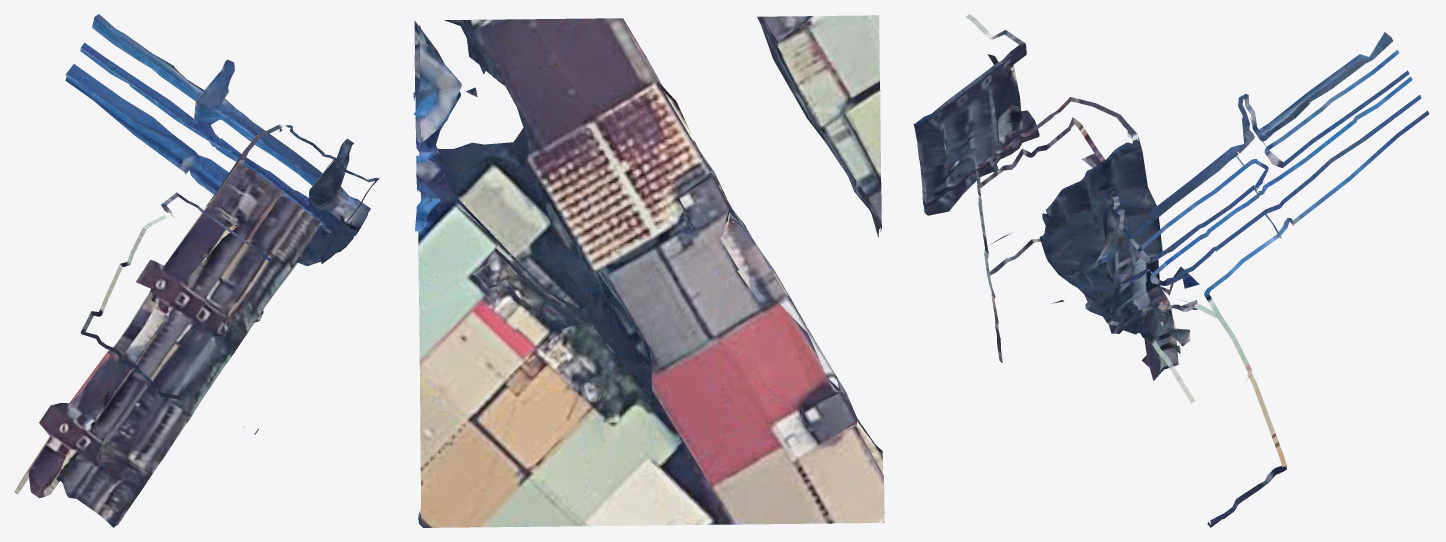
3 renders of one model, left to right at view 1: azimuth 30°, elevation 25°; view 2: azimuth 150°, elevation 25°; view 3: azimuth 270°, elevation 25°, orthographic. The views are drawn at different scales.
Bounding box in the file's own units: 42.54 × 45.31 × 47.53.
2 materials, 2 textured.
